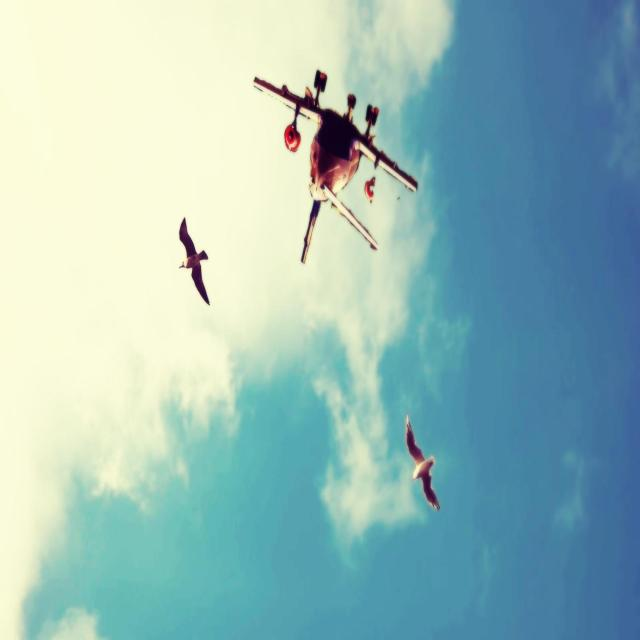airplane: (252, 68, 418, 264)
